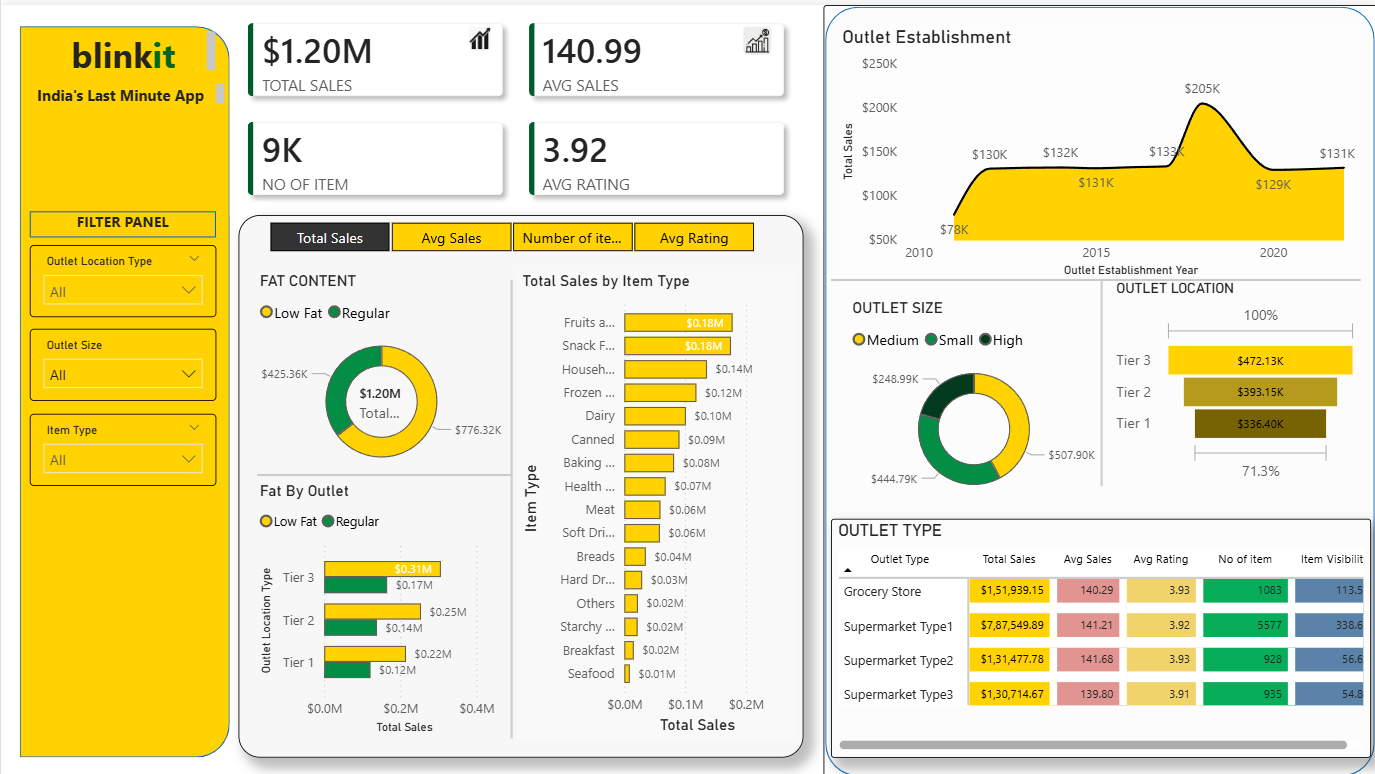

This screenshot's page, from the dashboard's own definition file:
{"tool":"powerbi","page":{"name":"Page 1","canvas":[1280,720],"ordinal":0},"visuals":[{"type":"shape","box":[17.4,19.8,195.3,680.2],"z":0},{"type":"textbox","box":[31.4,19.8,173.3,48.8],"z":1000},{"type":"textbox","box":[17.4,68.6,195.3,29.1],"z":2000},{"type":"cardVisual","fields":{"Data":["BlinkIT Grocery Data.Total Sales","BlinkIT Grocery Data.Avg Sales","BlinkIT Grocery Data.Number of item","BlinkIT Grocery Data.Avg Rating"]},"box":[212.8,0,533.7,195.3],"z":3000},{"type":"shape","box":[220.9,195.3,525.6,504.7],"z":4000},{"type":"slicer","fields":{"Values":["Metrics.Metrics"]},"box":[224.4,195.3,500,40.7],"z":5000},{"type":"donutChart","title":"FAT CONTENT","fields":{"Y":["BlinkIT Grocery Data.Total Sales"],"Category":["BlinkIT Grocery Data.Item Fat Content"]},"box":[236,247.7,236,195.3],"z":6000},{"type":"cardVisual","fields":{"Data":["BlinkIT Grocery Data.Total Sales"]},"box":[309.3,334.9,90.7,70.9],"z":7000},{"type":"clusteredBarChart","title":"Fat By Outlet","fields":{"Y":["BlinkIT Grocery Data.Total Sales"],"Category":["BlinkIT Grocery Data.Outlet Location Type"],"Series":["BlinkIT Grocery Data.Item Fat Content"]},"box":[236,443,236,239.5],"z":8000},{"type":"shape","box":[238.4,334.9,236,204.7],"z":9000},{"type":"clusteredBarChart","fields":{"Category":["BlinkIT Grocery Data.Item Type"],"Y":["BlinkIT Grocery Data.Total Sales"]},"box":[480.2,247.7,258.1,434.9],"z":10000},{"type":"shape","title":"\\","box":[765.1,0,515.1,719.8],"z":11000},{"type":"lineChart","title":"Outlet Establishment","fields":{"Y":["BlinkIT Grocery Data.Total Sales"],"Category":["BlinkIT Grocery Data.Outlet Establishment Year"]},"box":[777.9,19.8,489.5,238.4],"z":12000},{"type":"donutChart","title":"OUTLET SIZE","fields":{"Y":["BlinkIT Grocery Data.Total Sales"],"Category":["BlinkIT Grocery Data.Outlet Size"]},"box":[787.2,273.3,236,195.3],"z":13000},{"type":"shape","box":[357,255.8,236,426.7],"z":14000},{"type":"funnel","title":"OUTLET LOCATION","fields":{"Y":["BlinkIT Grocery Data.Total Sales"],"Category":["BlinkIT Grocery Data.Outlet Location Type"]},"box":[1032.6,255.8,234.9,191.9],"z":15000},{"type":"shape","box":[884.9,257,277.9,190.7],"z":16000},{"type":"pivotTable","title":"OUTLET TYPE","fields":{"Rows":["BlinkIT Grocery Data.Outlet Type"],"Values":["BlinkIT Grocery Data.Total Sales","BlinkIT Grocery Data.Avg Sales","BlinkIT Grocery Data.Avg Rating","BlinkIT Grocery Data.Number of item","Sum(BlinkIT Grocery Data.Item Visibility)"]},"box":[772.1,477.9,502.3,222.1],"z":17000},{"type":"shape","box":[772.1,160.5,493,190.7],"z":18000},{"type":"slicer","fields":{"Values":["BlinkIT Grocery Data.Outlet Location Type"]},"box":[26.7,223.3,173.3,67.4],"z":18001},{"type":"slicer","fields":{"Values":["BlinkIT Grocery Data.Item Type"]},"box":[26.7,380.2,173.3,67.4],"z":18002},{"type":"slicer","fields":{"Values":["BlinkIT Grocery Data.Outlet Size"]},"box":[26.7,301.2,173.3,67.4],"z":18003},{"type":"shape","box":[26.7,191.9,173.3,24.4],"z":18004}]}

Visuals, with their boxes in screenshot pixels (x1, y1, x2, y2), scaled from the page's 1280x720 canvas onto the 1375x774 screenshot:
shape: 19,21,228,752
textbox: 34,21,220,74
textbox: 19,74,228,105
cardVisual - BlinkIT Grocery Data.Total Sales x BlinkIT Grocery Data.Avg Sales: 229,0,802,210
shape: 237,210,802,752
slicer - Metrics.Metrics: 241,210,778,254
"FAT CONTENT" donutChart: 254,266,507,476
cardVisual - BlinkIT Grocery Data.Total Sales: 332,360,430,436
"Fat By Outlet" clusteredBarChart: 254,476,507,734
shape: 256,360,510,580
clusteredBarChart - BlinkIT Grocery Data.Item Type x BlinkIT Grocery Data.Total Sales: 516,266,793,734
"\" shape: 822,0,1374,773
"Outlet Establishment" lineChart: 836,21,1361,278
"OUTLET SIZE" donutChart: 846,294,1099,504
shape: 383,275,637,734
"OUTLET LOCATION" funnel: 1109,275,1362,481
shape: 951,276,1249,481
"OUTLET TYPE" pivotTable: 829,514,1369,752
shape: 829,173,1359,378
slicer - BlinkIT Grocery Data.Outlet Location Type: 29,240,215,313
slicer - BlinkIT Grocery Data.Item Type: 29,409,215,481
slicer - BlinkIT Grocery Data.Outlet Size: 29,324,215,396
shape: 29,206,215,233
